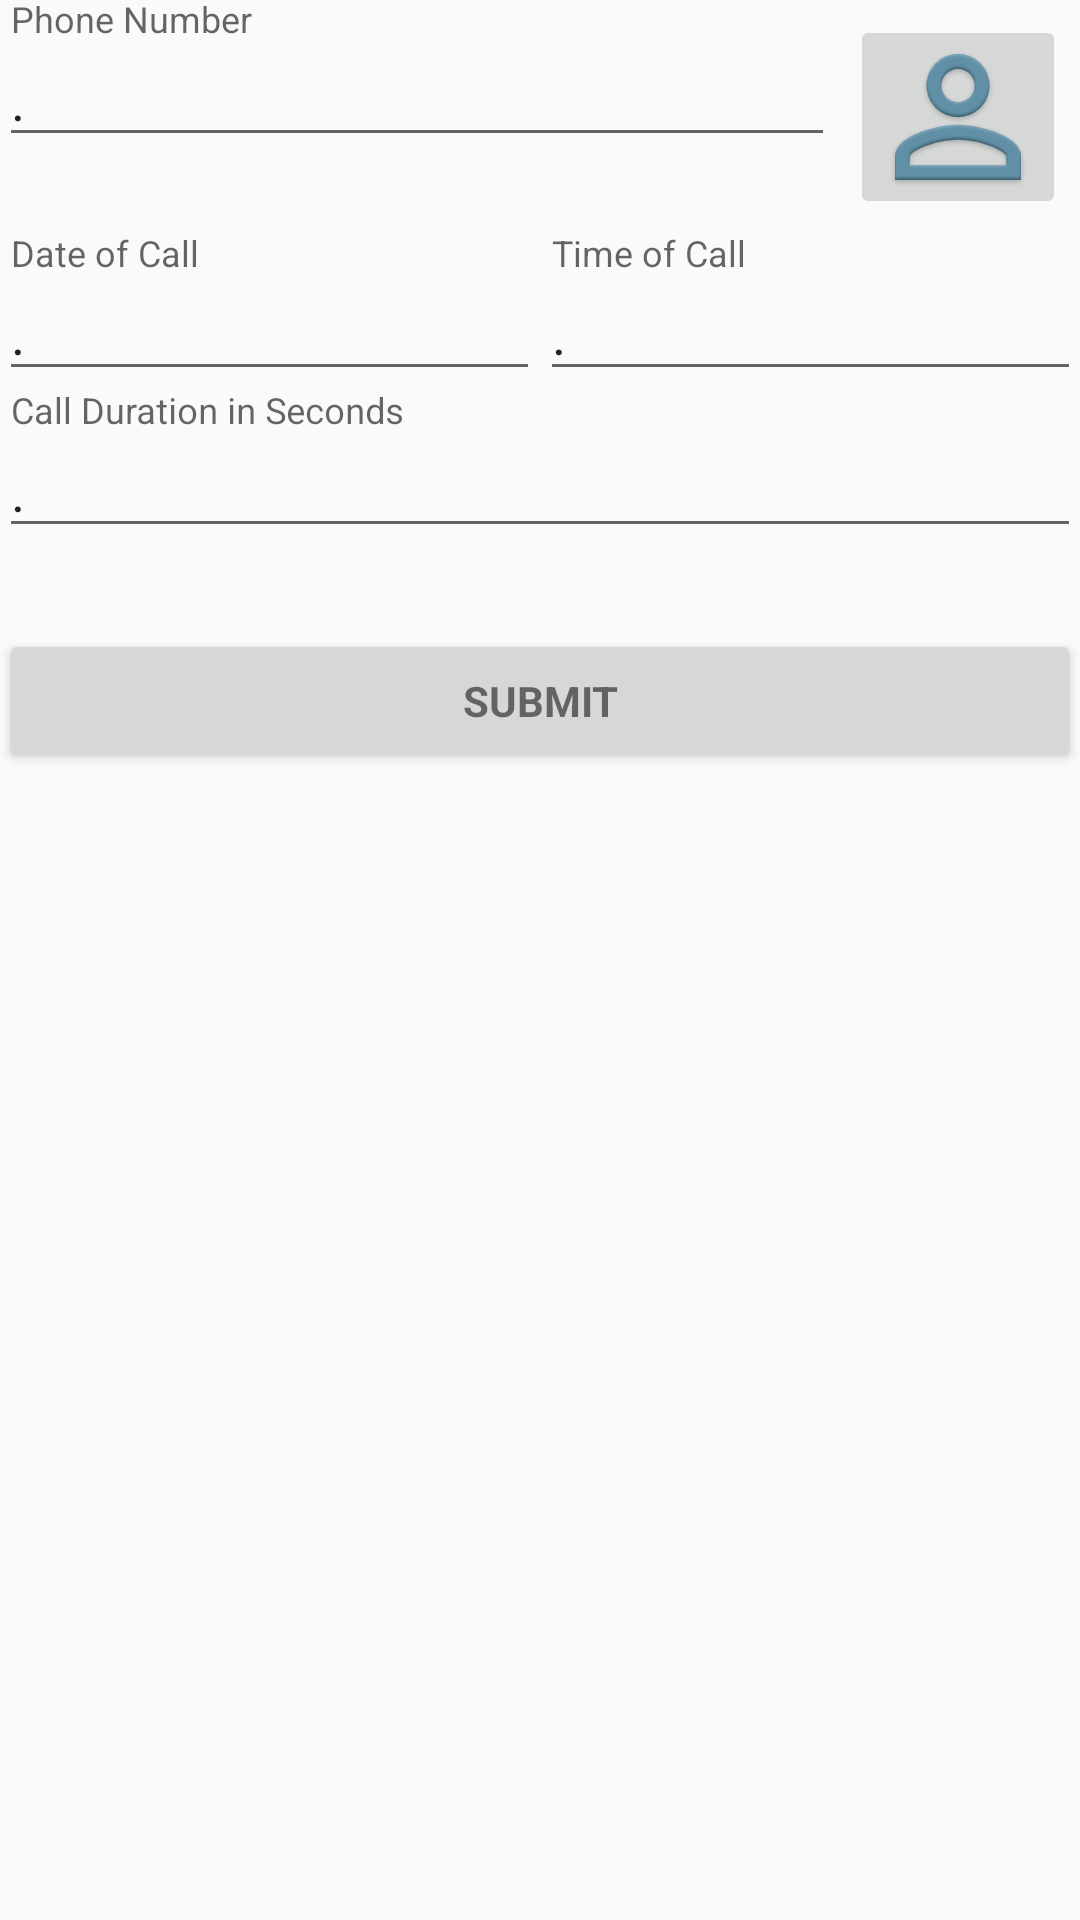

Icons on this 1080 x 1920 Android screen, each with its box as (x1, y1, x2, y2):
contact: (862, 33, 1054, 201)
